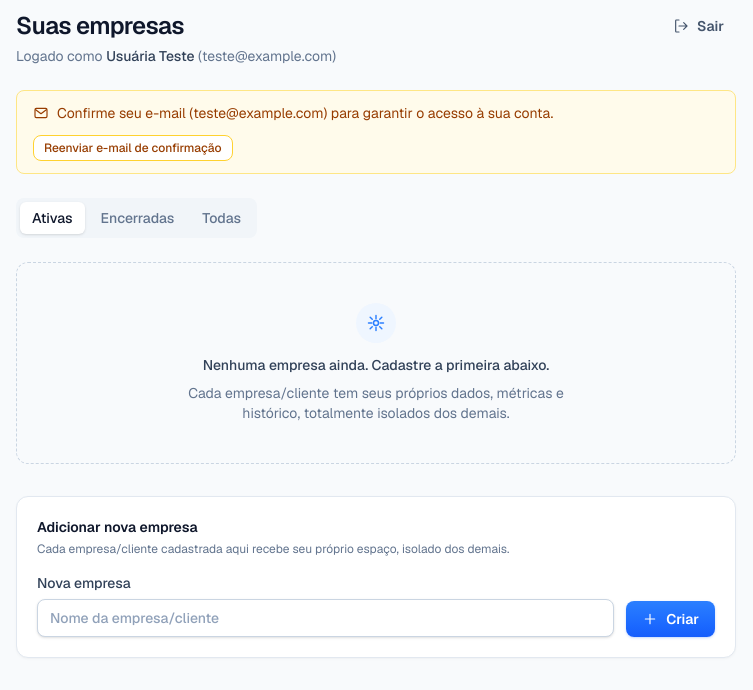
it: OrganizationsPage › mostra aviso não bloqueante de e-mail não verificado, com botão de reenviar
Expected: the text "Confirme seu e-mail" is shown, [57, 104, 553, 122]
Expected: the button "Criar" is shown, [626, 601, 715, 637]
Click the button "Reenviar e-mail de confirmação" at (133, 148), box [33, 135, 233, 161]
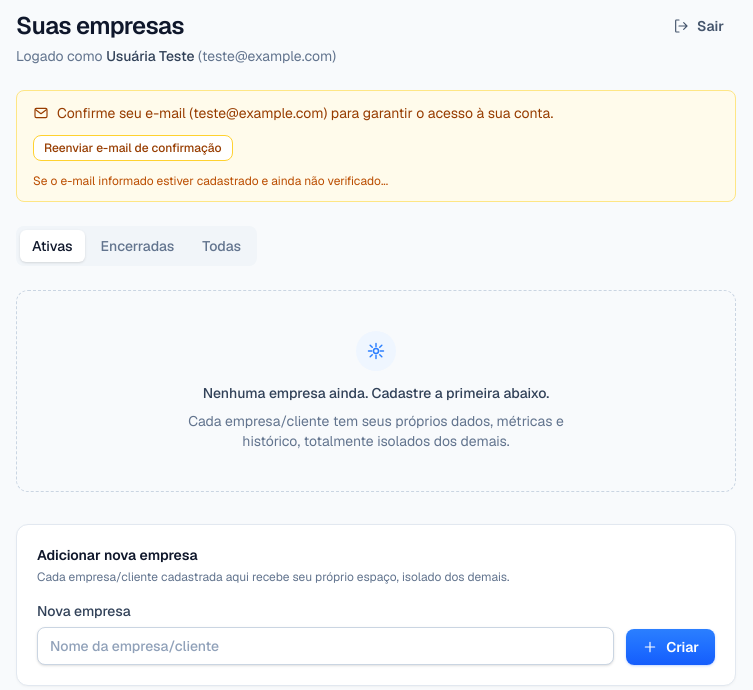
Now the text "Se o e-mail informado estiver cadastrado e ainda não verificado" is shown, box [33, 173, 388, 189]
